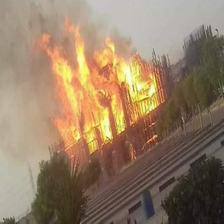fire: (30, 24, 172, 163)
